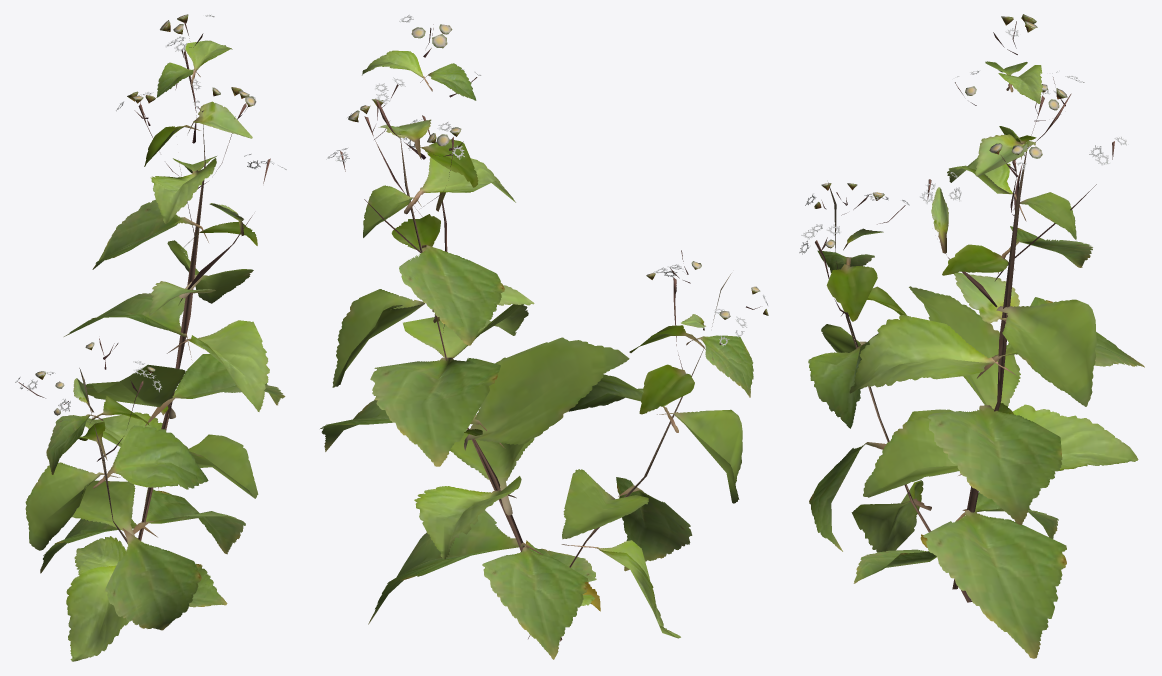
3 renders of one model, left to right at view 1: azimuth 30°, elevation 25°; view 2: azimuth 150°, elevation 25°; view 3: azimuth 270°, elevation 25°, orthographic. The views are drawn at different scales.
Parts seen in each view (by area): view 1: shrub_01__b_lod1; view 2: shrub_01__b_lod1; view 3: shrub_01__b_lod1.
Boxes of the visible parts, <box> form: shrub_01__b_lod1: <box>15,14,286,661</box>; shrub_01__b_lod1: <box>320,14,768,659</box>; shrub_01__b_lod1: <box>799,14,1144,658</box>.
Size of the model in its own units: 0.2371 by 0.3966 by 0.2025.
Materials: 1 (1 with a texture image).
